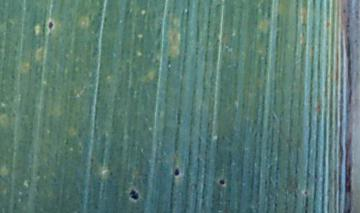tarspot: (129, 189, 140, 200), (217, 178, 226, 185), (47, 21, 54, 29), (174, 168, 180, 177), (302, 190, 309, 196)
